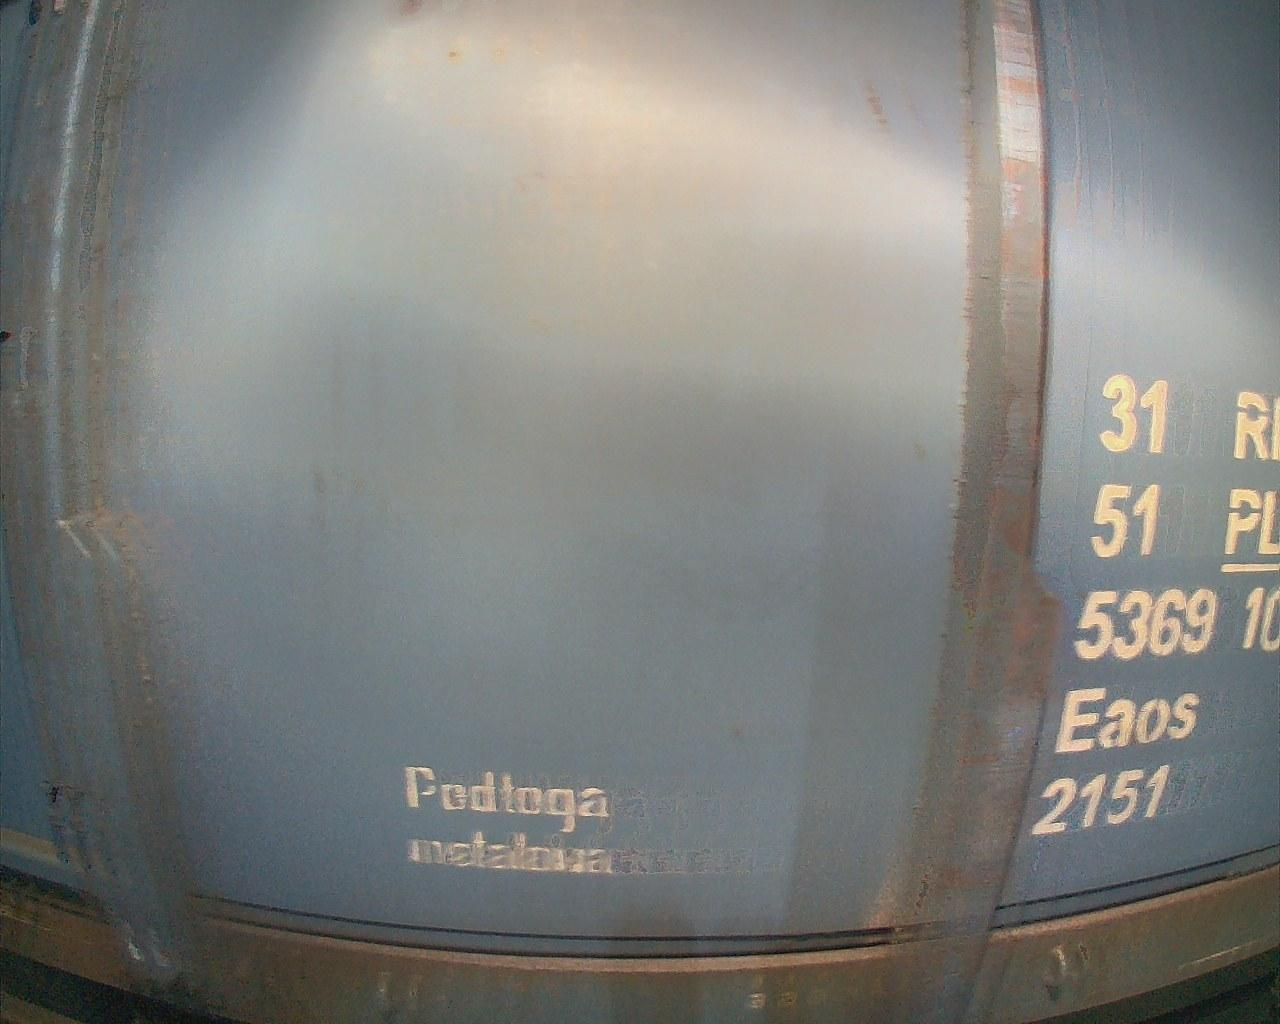UIC: (1033, 365, 1280, 845)
